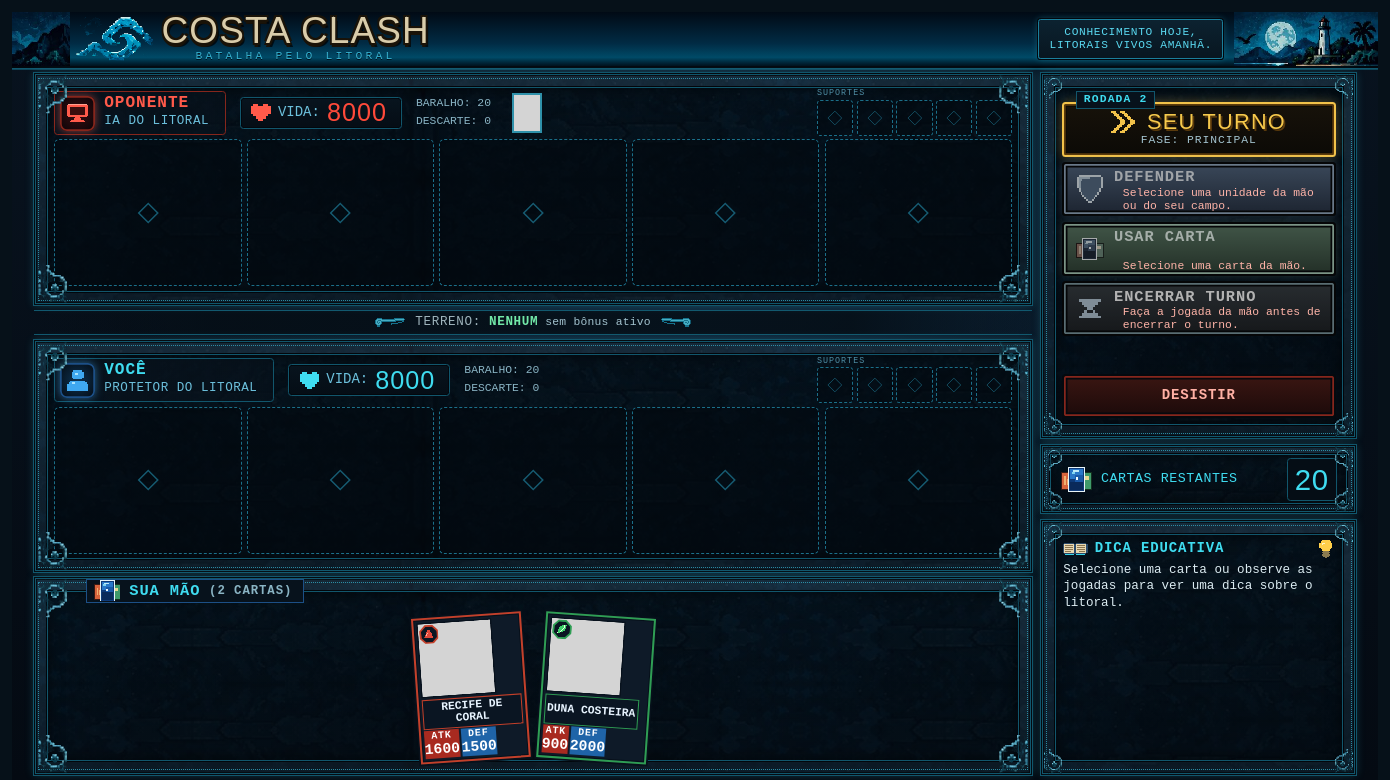
it: QA arrasto: bordas › todo listener de janela adicionado pelo arrasto é removido (soltar, cancelar por Esc, pointercancel e desmontar)
Press the mouse on the button with aria-label "Mão 1:" at (471, 687), box [411,611,530,764]
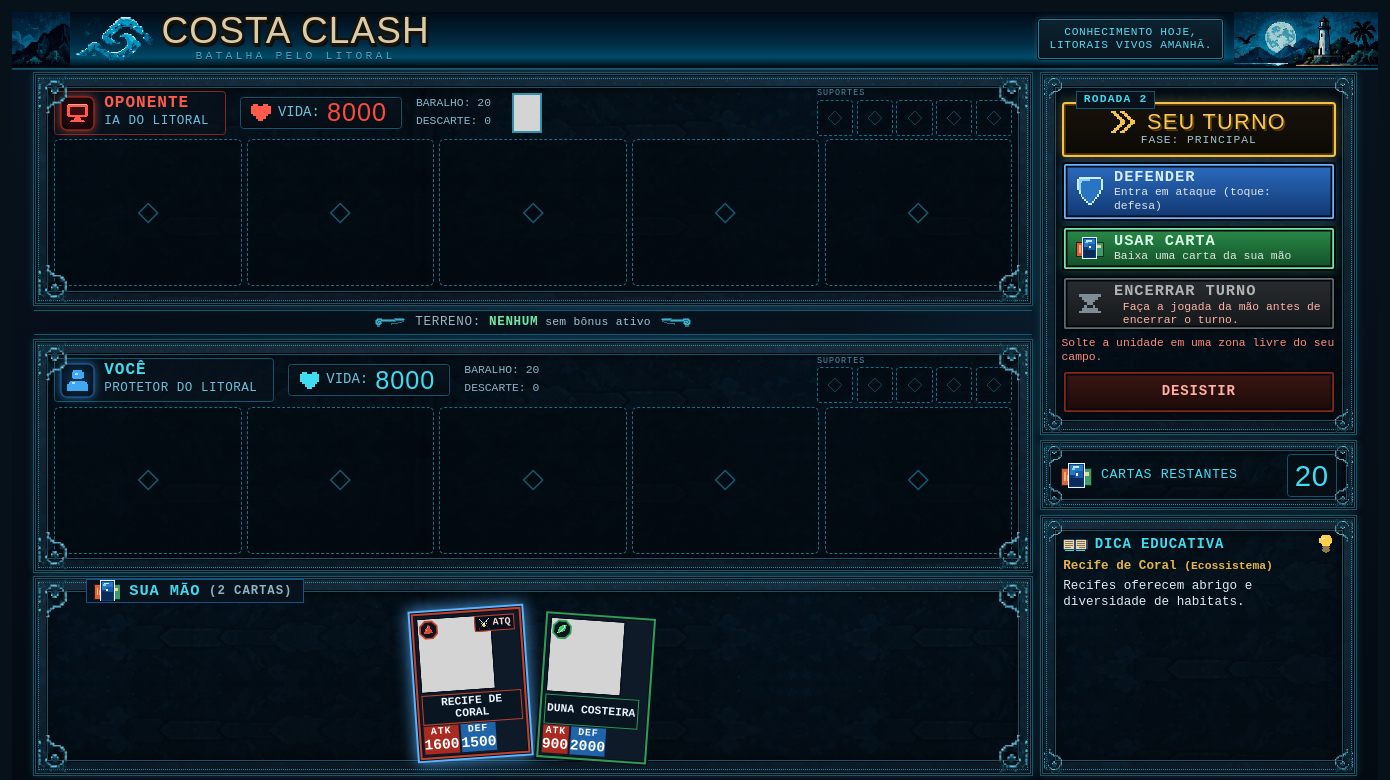
Press the mouse on the button with aria-label "Mão 1:" at (470, 683), box [411,606,530,760]
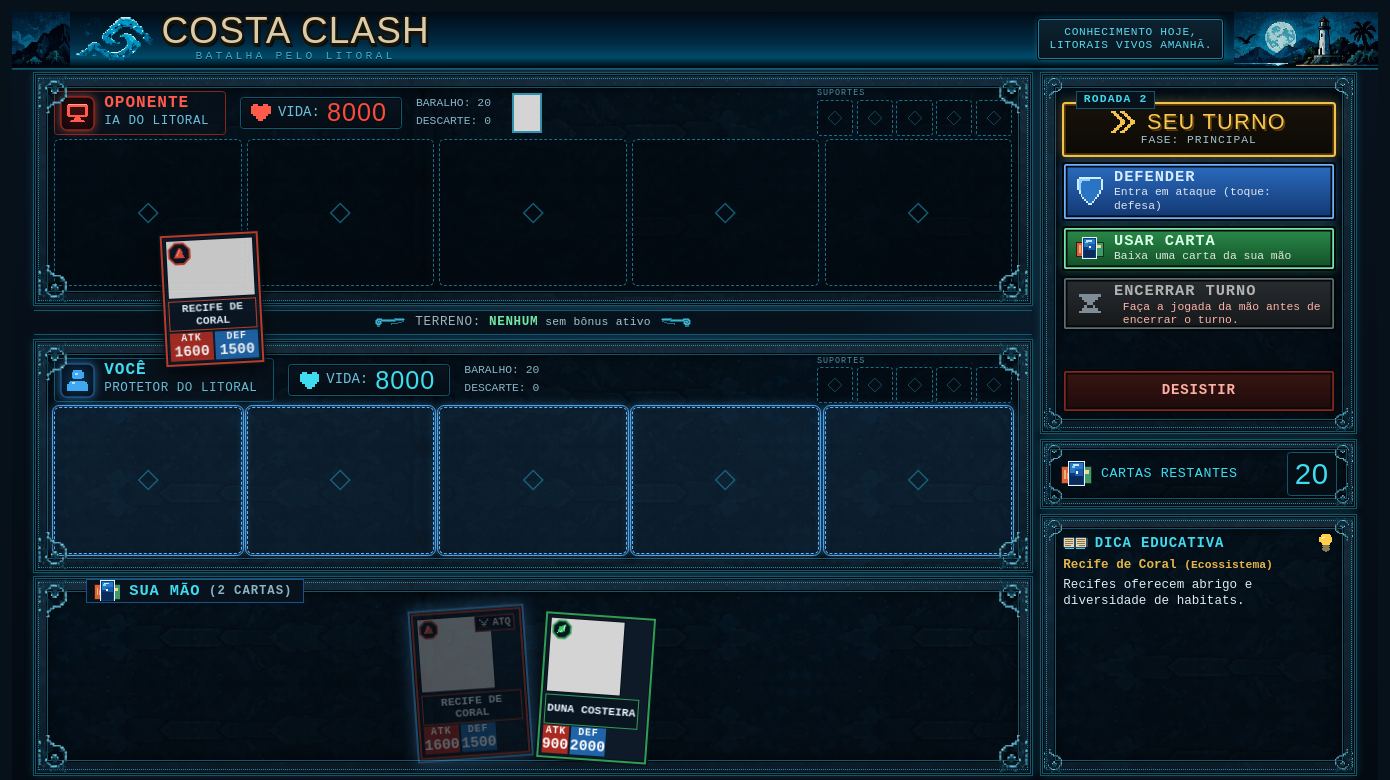
Press Escape
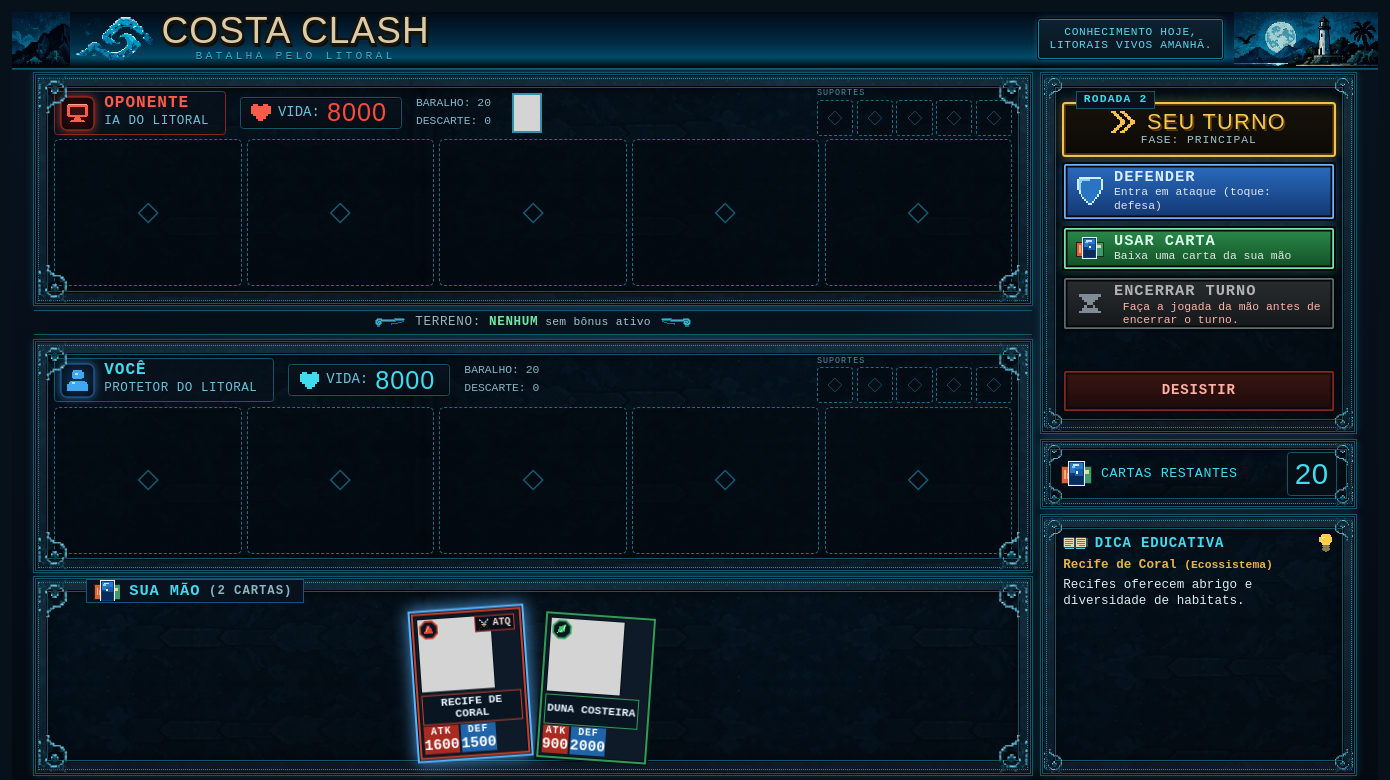
Press the mouse on the button with aria-label "Mão 1:" at (470, 683), box [411,606,530,760]
Press the mouse on the button with aria-label "Mão 1:" at (470, 683), box [411,606,530,760]
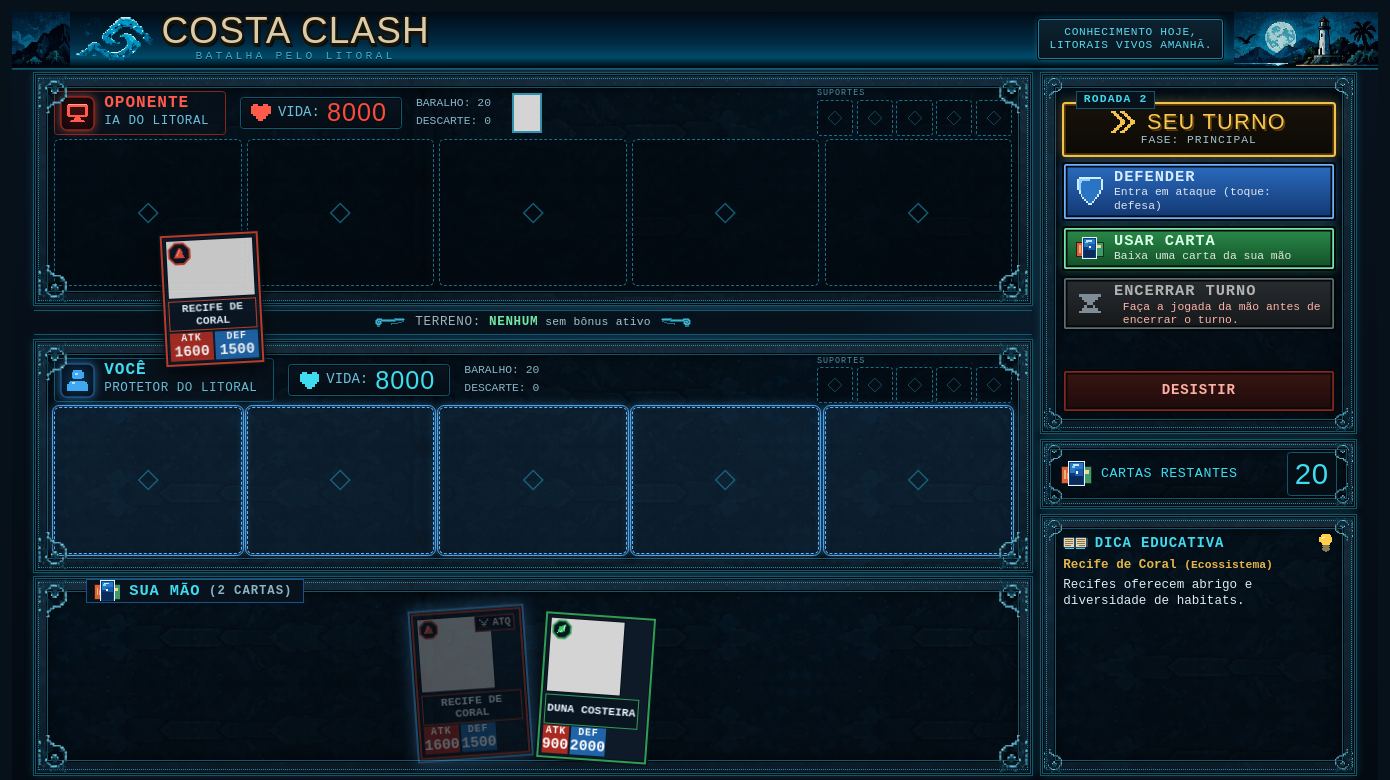
Result: the element with class "duelo-arrasto-fantasma" is shown at [160,231,264,367]
